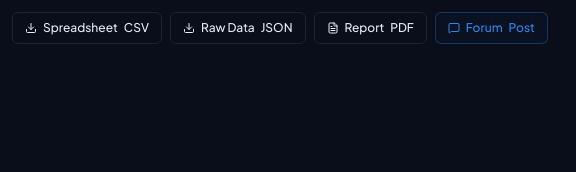
ExportButtons error feedback › shows Failed on PDF button when report generation throws
Step 1. Click the button with aria-label "open printable pdf" → point(370, 28), box [314,12,427,44]
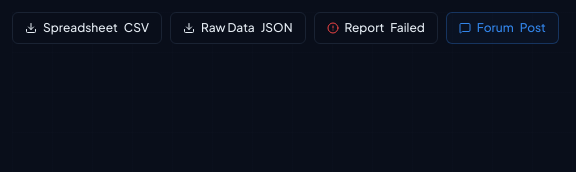
expect the button with aria-label "open printable pdf" shows "Failed": met, box [314,12,438,44]
